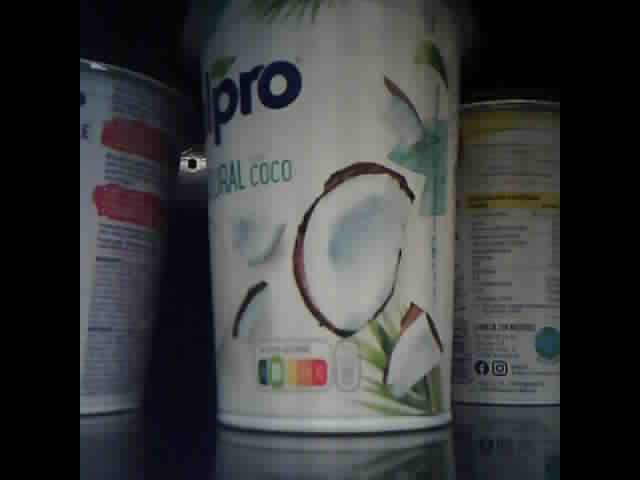alpro: (197, 1, 460, 435), (81, 50, 192, 415), (455, 99, 560, 406)
